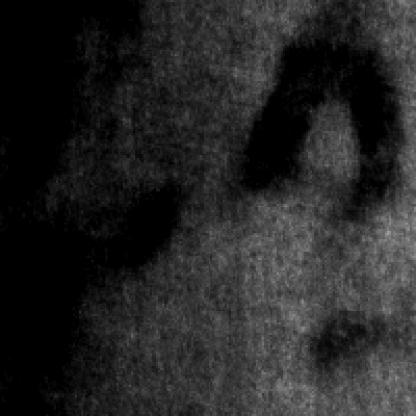patches: (235, 42, 399, 208), (2, 5, 75, 218), (0, 231, 79, 397), (107, 189, 174, 277), (310, 323, 370, 380)
